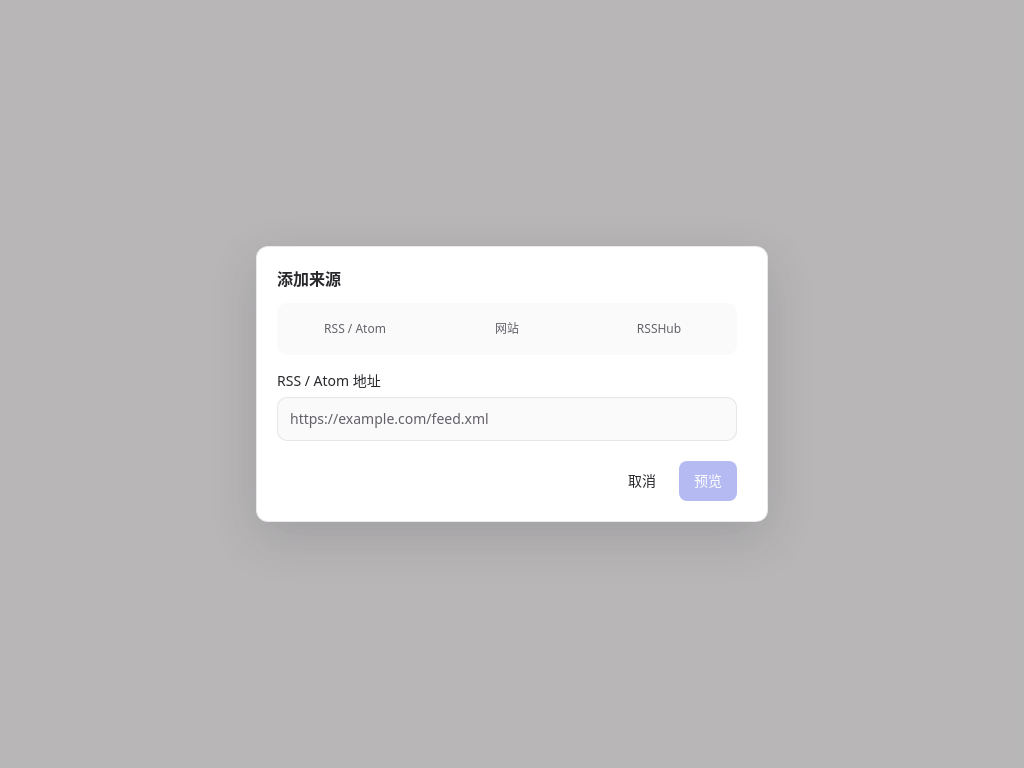
Test case: RssHubTab — N027 路由刷新 › 429 限速：诚实文案 + Retry-After 等待秒数
Click the tab "RSSHub": coordinates (659, 329) x1=585 y1=307 x2=733 y2=351
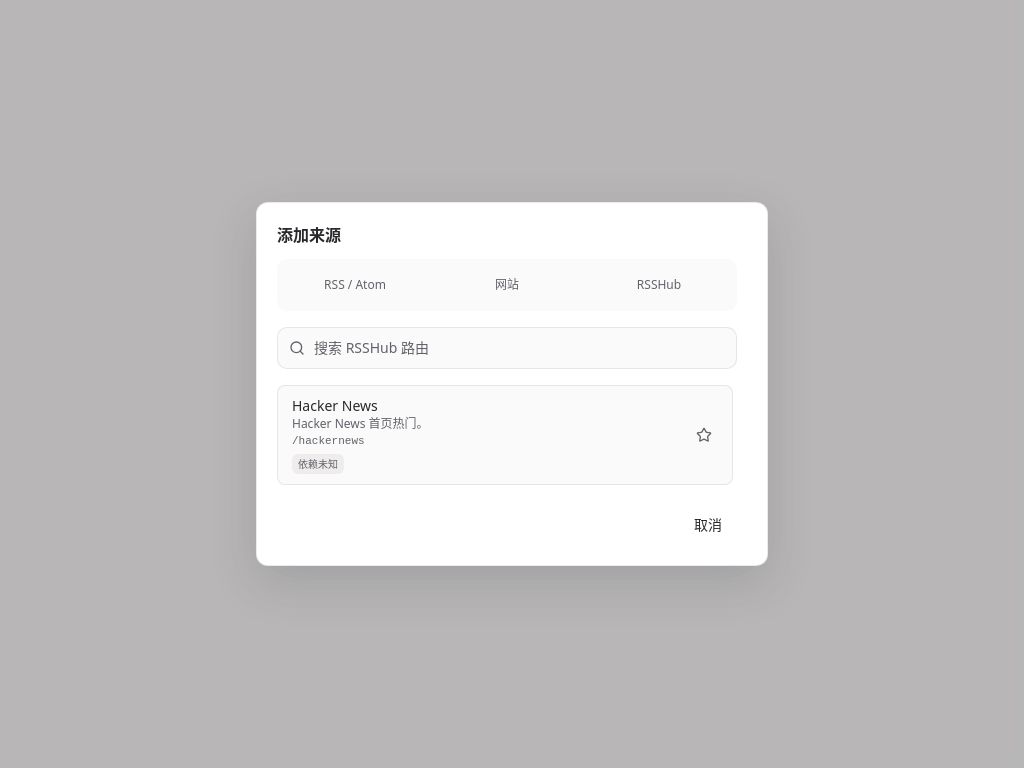
Expected: the text "Hacker News" is shown, x1=292 y1=396 x2=378 y2=415
Click the radio button labelled "Hacker News Hacker News 首页热门。 /hackernews 依赖未知": coordinates (360, 435) x1=292 y1=396 x2=429 y2=474
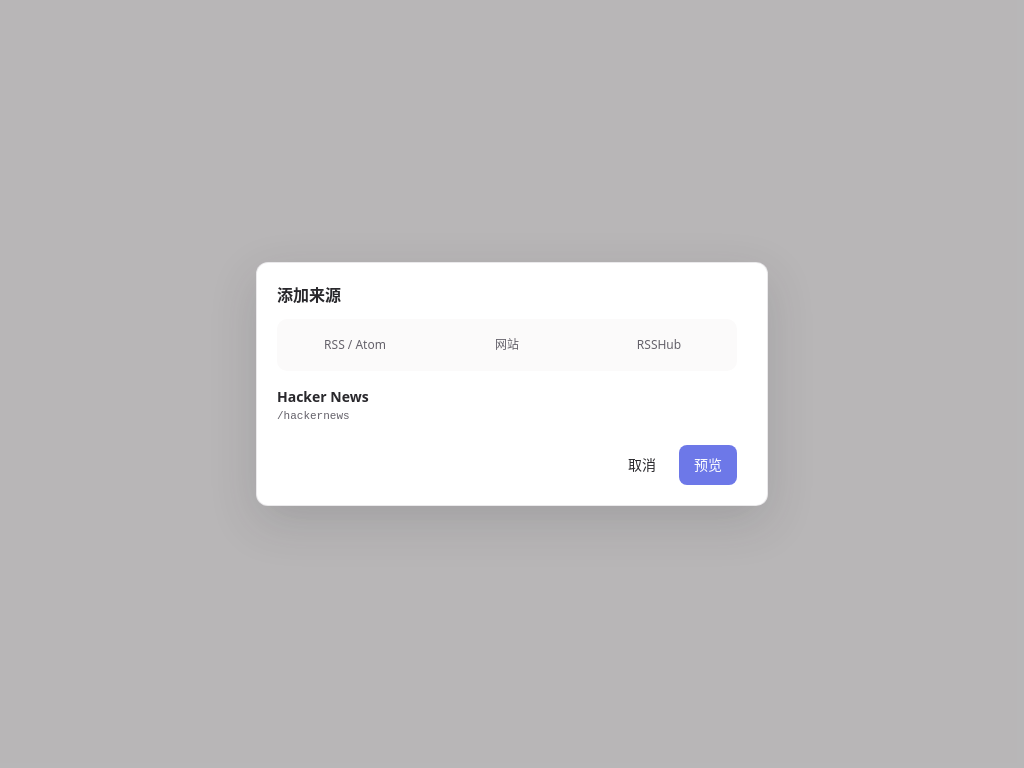
Click the button "预览": coordinates (708, 465) x1=679 y1=445 x2=737 y2=485
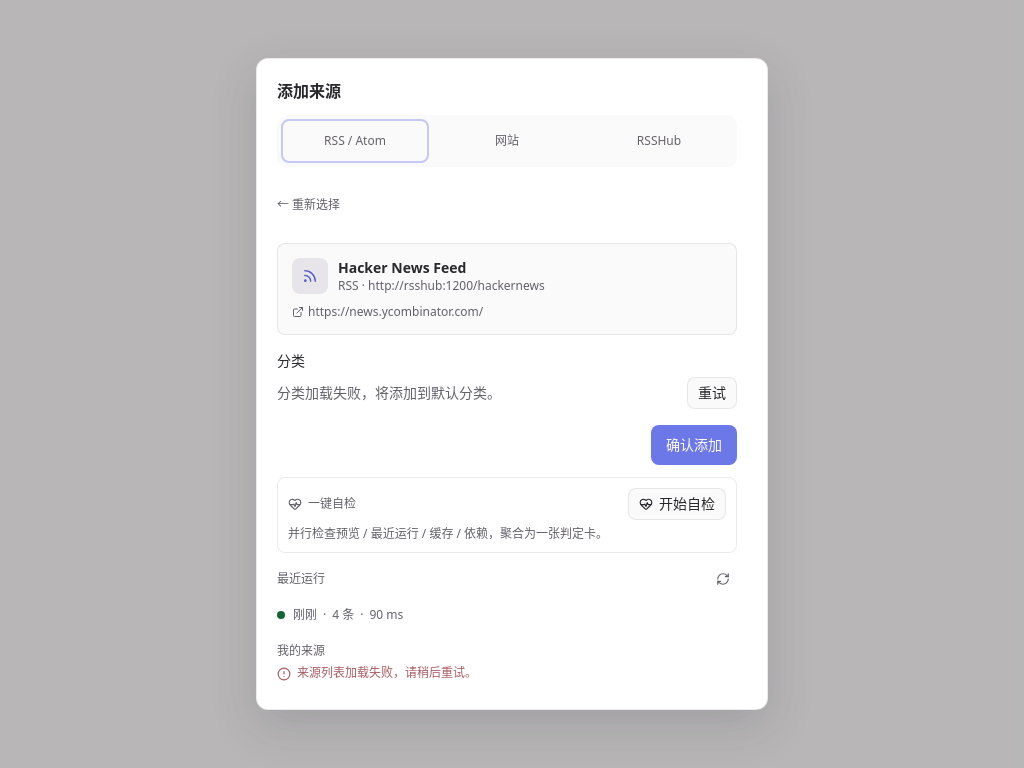
Expected: the element "最近运行" is shown, x1=277 y1=565 x2=737 y2=631
Click the button named "强制刷新该路由": coordinates (723, 579) x1=709 y1=565 x2=737 y2=593
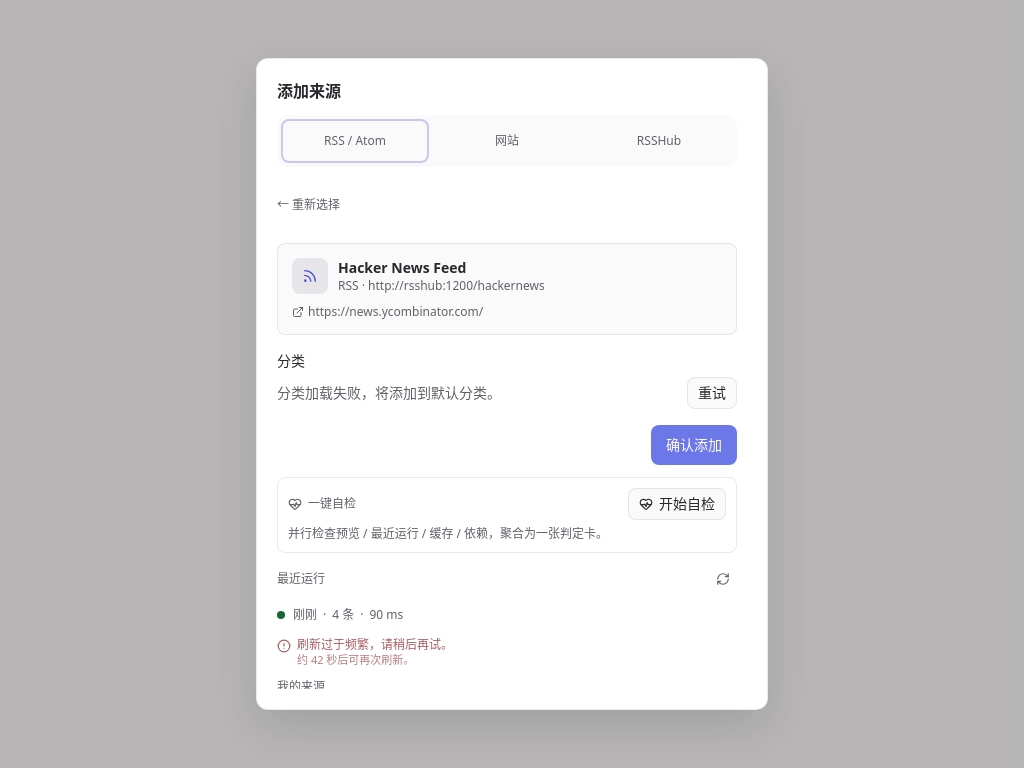
Expected: the text "刷新过于频繁，请稍后再试。" is shown, x1=297 y1=636 x2=453 y2=653
Expected: the text "约 42 秒后可再次刷新。" is shown, x1=297 y1=652 x2=414 y2=667
